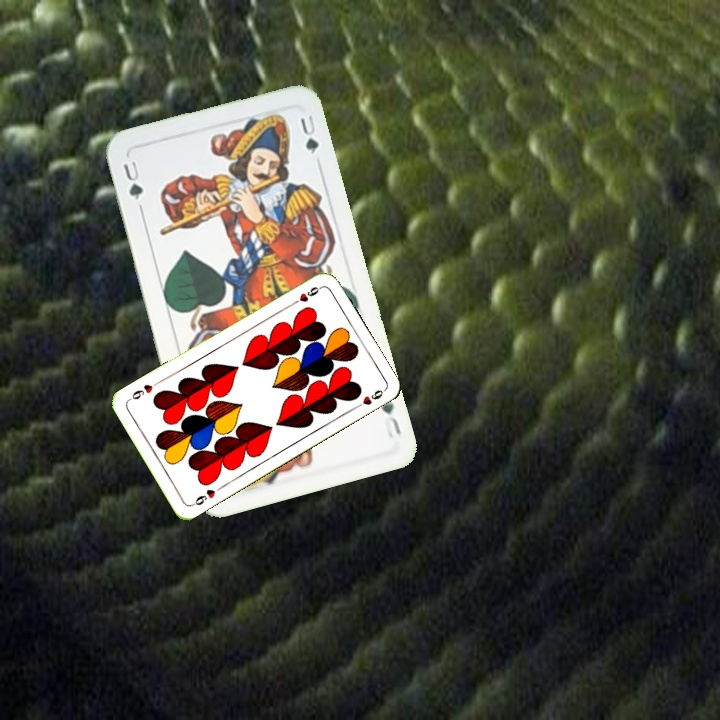GU: (119, 156, 146, 203), (377, 396, 404, 441)
H9: (187, 483, 224, 509), (287, 282, 324, 308)
